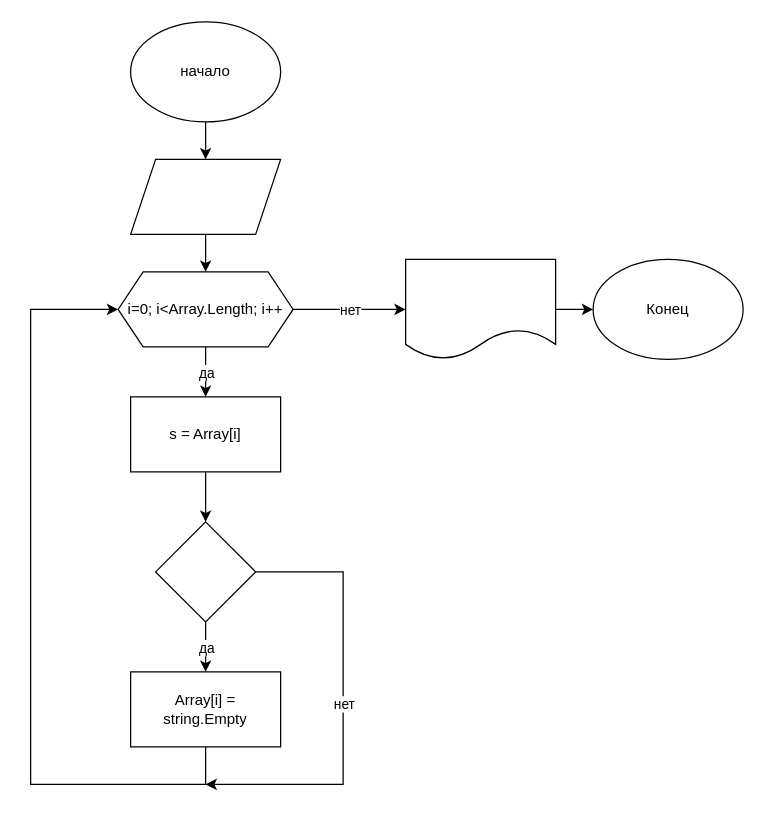
Some shapes in this 765 by 816 pixel diagram are drawn without their labels. The shapes that lost their labels are listed below. From the top down, each one's centre as x and y in pixels, then its label:
At (x=205, y=196): "Array [] s".
At (x=480, y=308): "return Array".
At (x=205, y=571): "s.Length < 4".
